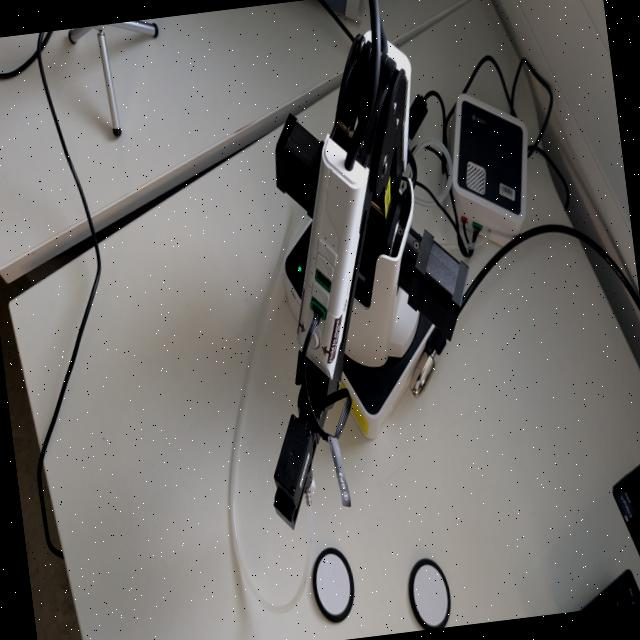Robot-end-effector-HF8z: (259, 406, 332, 538)
